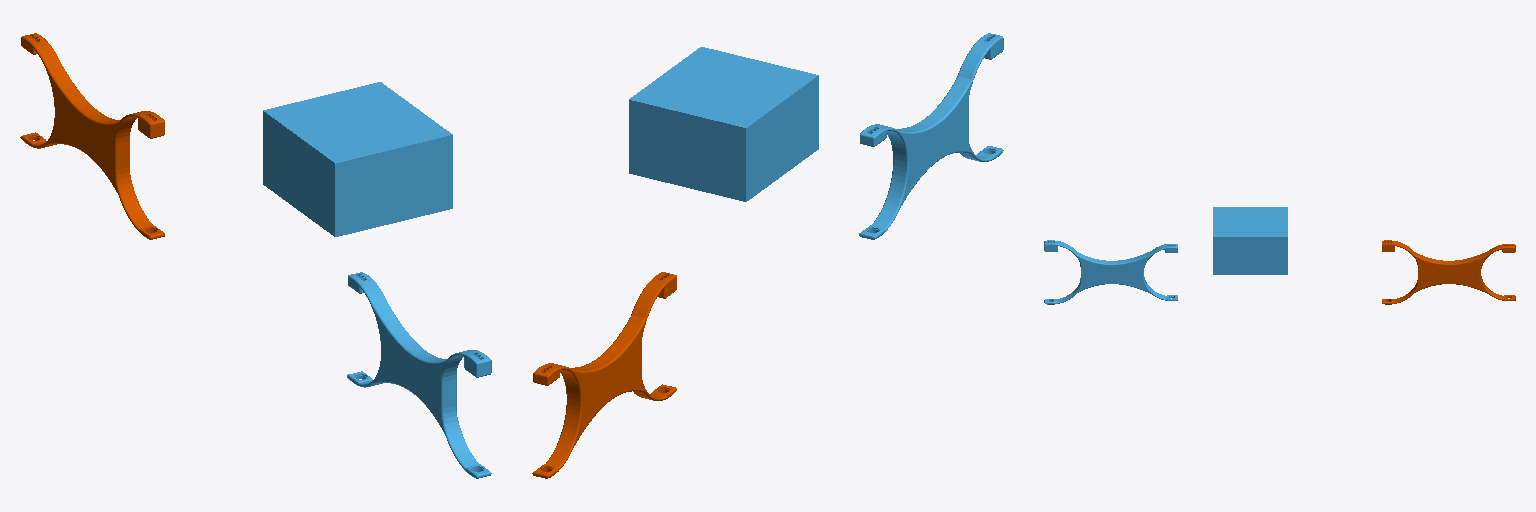
robot.urdf — nong:
<?xml version="1.0"?>
<robot name="nong">
  <link name="base_link">
    <visual>
      <origin xyz="0 0 0" rpy="0 0 0"/>
      <geometry><mesh filename="meshes/torso.stl" scale="0.001 0.001 0.001"/></geometry>
    </visual>
  </link>
  <link name="head_link">
    <visual>
      <origin xyz="0 0 0" rpy="0 0 0"/>
      <geometry><mesh filename="meshes/head.stl" scale="0.001 0.001 0.001"/></geometry>
    </visual>
  </link>
  <link name="waist_link">
  </link>
  <link name="shrug_link">
  </link>
  <link name="L_sh_mid">
  </link>
  <link name="L_upper_link">
    <visual>
      <origin xyz="0 0 0" rpy="0 0 0"/>
      <geometry><mesh filename="meshes/L_upper.stl" scale="0.001 0.001 0.001"/></geometry>
    </visual>
  </link>
  <link name="L_el_mid">
  </link>
  <link name="L_fore_link">
    <visual>
      <origin xyz="0 0 0" rpy="0 0 0"/>
      <geometry><mesh filename="meshes/L_fore.stl" scale="0.001 0.001 0.001"/></geometry>
    </visual>
  </link>
  <link name="R_sh_mid">
  </link>
  <link name="R_upper_link">
    <visual>
      <origin xyz="0 0 0" rpy="0 0 0"/>
      <geometry><mesh filename="meshes/R_upper.stl" scale="0.001 0.001 0.001"/></geometry>
    </visual>
  </link>
  <link name="R_el_mid">
  </link>
  <link name="R_fore_link">
    <visual>
      <origin xyz="0 0 0" rpy="0 0 0"/>
      <geometry><mesh filename="meshes/R_fore.stl" scale="0.001 0.001 0.001"/></geometry>
    </visual>
  </link>
  <joint name="head" type="fixed">
    <parent link="shrug_link"/>
    <child link="head_link"/>
    <origin xyz="0 0 0" rpy="0 0 0"/>
  </joint>
  <joint name="waist" type="revolute">
    <parent link="base_link"/>
    <child link="waist_link"/>
    <origin xyz="0 0 0" rpy="0 0 0"/>
    <axis xyz="0 0 1"/>
    <limit lower="-1.0472" upper="1.0472" effort="33.4" velocity="3.491"/>
  </joint>
  <joint name="shrug" type="revolute">
    <parent link="waist_link"/>
    <child link="shrug_link"/>
    <origin xyz="0 0 0.18" rpy="0 0 0"/>
    <axis xyz="0 1 0"/>
    <limit lower="-0.1745" upper="0.1745" effort="33.4" velocity="3.491"/>
  </joint>
  <joint name="L_SH_P" type="revolute">
    <parent link="shrug_link"/>
    <child link="L_sh_mid"/>
    <origin xyz="0 0.18 0" rpy="0 0 0"/>
    <axis xyz="0 0 1"/>
    <limit lower="0.4363" upper="2.7053" effort="3.6" velocity="6.545"/>
  </joint>
  <joint name="L_SH_R" type="revolute">
    <parent link="L_sh_mid"/>
    <child link="L_upper_link"/>
    <origin xyz="0 0 0" rpy="0 0 0"/>
    <axis xyz="0 1 0"/>
    <limit lower="0.4363" upper="2.7053" effort="3.6" velocity="6.545"/>
  </joint>
  <joint name="L_EL_P" type="revolute">
    <parent link="L_upper_link"/>
    <child link="L_el_mid"/>
    <origin xyz="0 0 -0.129" rpy="0 0 0"/>
    <axis xyz="0 0 1"/>
    <limit lower="0.4363" upper="2.7053" effort="0.31" velocity="6.981"/>
  </joint>
  <joint name="L_EL_R" type="revolute">
    <parent link="L_el_mid"/>
    <child link="L_fore_link"/>
    <origin xyz="0 0 0" rpy="0 0 0"/>
    <axis xyz="0 1 0"/>
    <limit lower="0.4363" upper="2.7053" effort="0.31" velocity="6.981"/>
  </joint>
  <joint name="R_SH_P" type="revolute">
    <parent link="shrug_link"/>
    <child link="R_sh_mid"/>
    <origin xyz="0 -0.18 0" rpy="0 0 0"/>
    <axis xyz="0 0 1"/>
    <limit lower="0.4363" upper="2.7053" effort="3.6" velocity="6.545"/>
  </joint>
  <joint name="R_SH_R" type="revolute">
    <parent link="R_sh_mid"/>
    <child link="R_upper_link"/>
    <origin xyz="0 0 0" rpy="0 0 0"/>
    <axis xyz="0 1 0"/>
    <limit lower="0.4363" upper="2.7053" effort="3.6" velocity="6.545"/>
  </joint>
  <joint name="R_EL_P" type="revolute">
    <parent link="R_upper_link"/>
    <child link="R_el_mid"/>
    <origin xyz="0 0 -0.129" rpy="0 0 0"/>
    <axis xyz="0 0 1"/>
    <limit lower="0.4363" upper="2.7053" effort="0.31" velocity="6.981"/>
  </joint>
  <joint name="R_EL_R" type="revolute">
    <parent link="R_el_mid"/>
    <child link="R_fore_link"/>
    <origin xyz="0 0 0" rpy="0 0 0"/>
    <axis xyz="0 1 0"/>
    <limit lower="0.4363" upper="2.7053" effort="0.31" velocity="6.981"/>
  </joint>
</robot>

--- What the picture shows (computed from the rendered views, not written in the file) ---
Views: 3 orthographic renders of the robot side by side, from view 1: azimuth 30°, elevation 25°; view 2: azimuth 150°, elevation 25°; view 3: azimuth 270°, elevation 25°.
Model nong with 12 links and 11 joints (10 revolute, 1 fixed), rooted at base_link, posed all joints at 0 but 8 set to mid-range because 0 is outside their limits (L_SH_P = 1.57, L_SH_R = 1.57, L_EL_P = 1.57, L_EL_R = 1.57, R_SH_P = 1.57, R_SH_R = 1.57, +2 more).
Links seen in each view (by area): view 1: head_link, R_upper_link, L_upper_link; view 2: head_link, R_upper_link, L_upper_link; view 3: head_link, R_upper_link, L_upper_link.
Link boxes in pixels (<box>): head_link: <box>263,82,452,236</box>; R_upper_link: <box>347,272,491,478</box>; L_upper_link: <box>20,33,164,239</box>; head_link: <box>629,47,818,201</box>; R_upper_link: <box>859,33,1003,239</box>; L_upper_link: <box>532,272,676,478</box>; head_link: <box>1213,207,1287,274</box>; R_upper_link: <box>1044,240,1177,304</box>; L_upper_link: <box>1382,240,1515,304</box>.
Size in the robot's own frame: 0.089 by 0.503 by 0.117 metres.
Meshes: 6 distinct files referenced, 3 mesh visuals loaded (3 binary STL); not drawn: 3 (reference not matched to a file when rendering).
